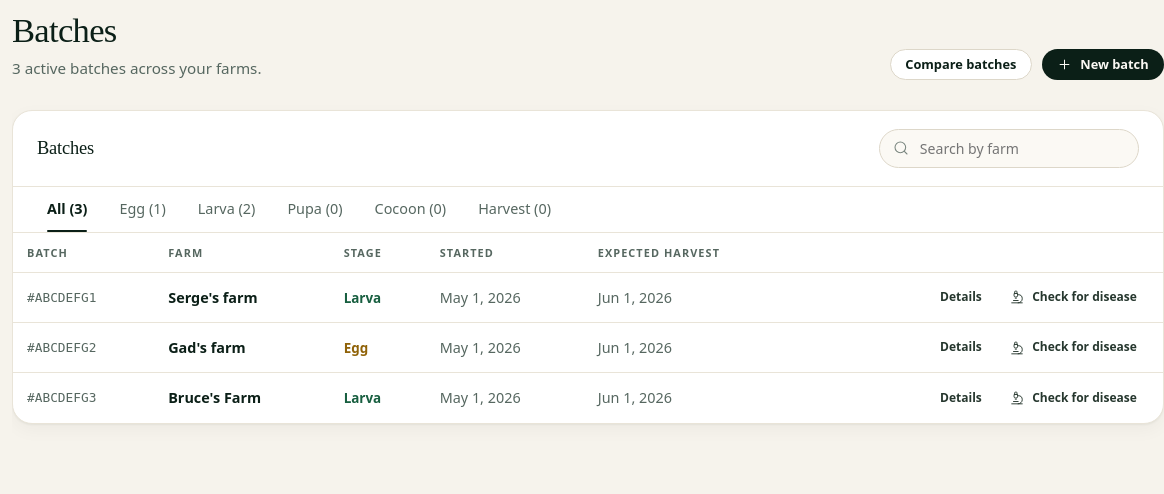
Test case: Batches page › filters by stage with tabs that show counts
The width and height of the screenshot is (1164, 494).
Expected: the text "Serge's farm" is shown, [154, 272, 330, 322]
What coordinates should you click on to do the following:
click the tab "Larva (2)"
I would click on:
 (227, 209)
Its box is [184, 187, 269, 232].
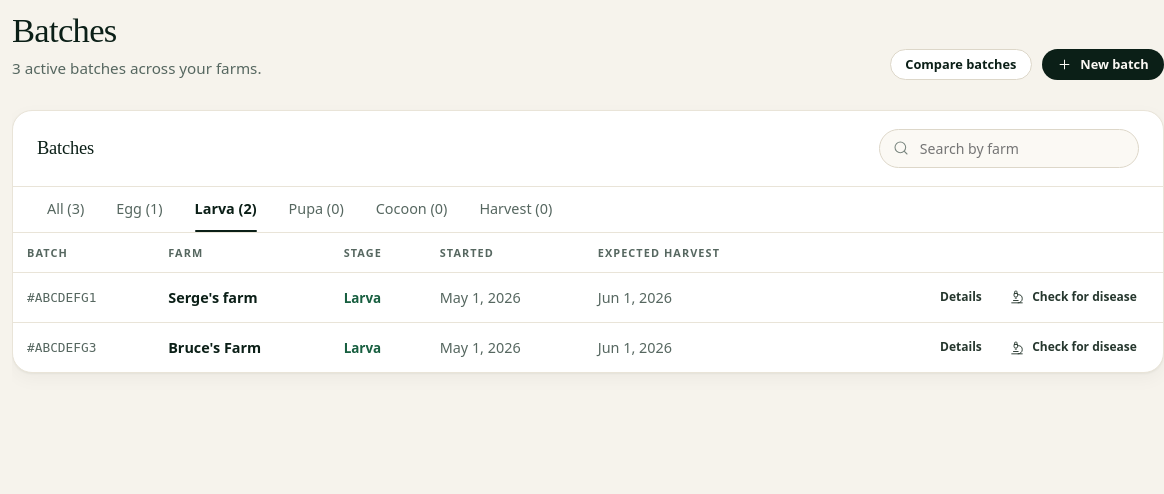
Expected: the text "Bruce's Farm" is shown, [154, 322, 330, 372]
Result: the text "Gad's farm" is gone
What coordinates should you click on to do the following:
click the tab "Pupa (0)"
I would click on:
 (316, 209)
Its box is [275, 187, 358, 232].
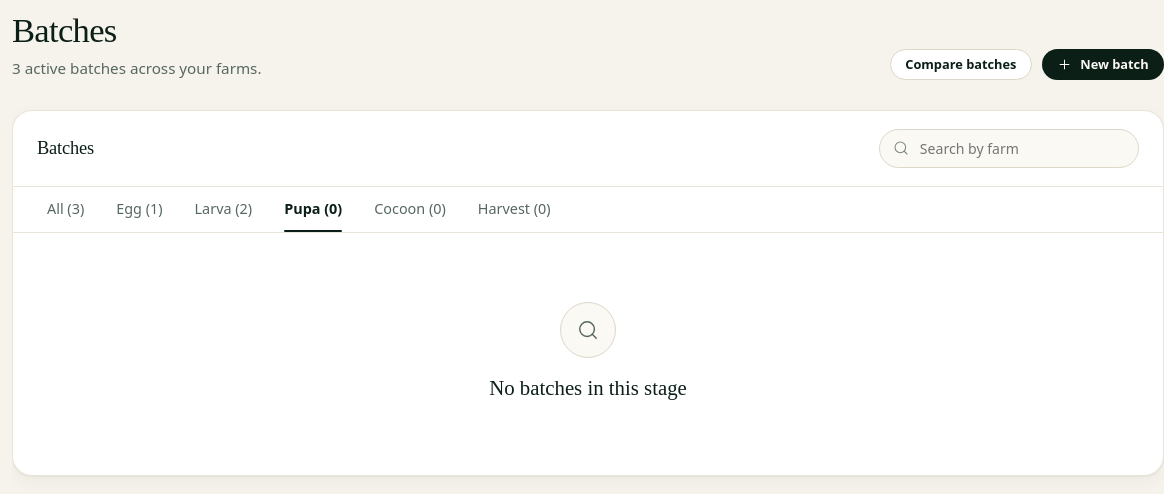
Result: the heading "No batches in this stage" is shown at [489, 376, 687, 400]
